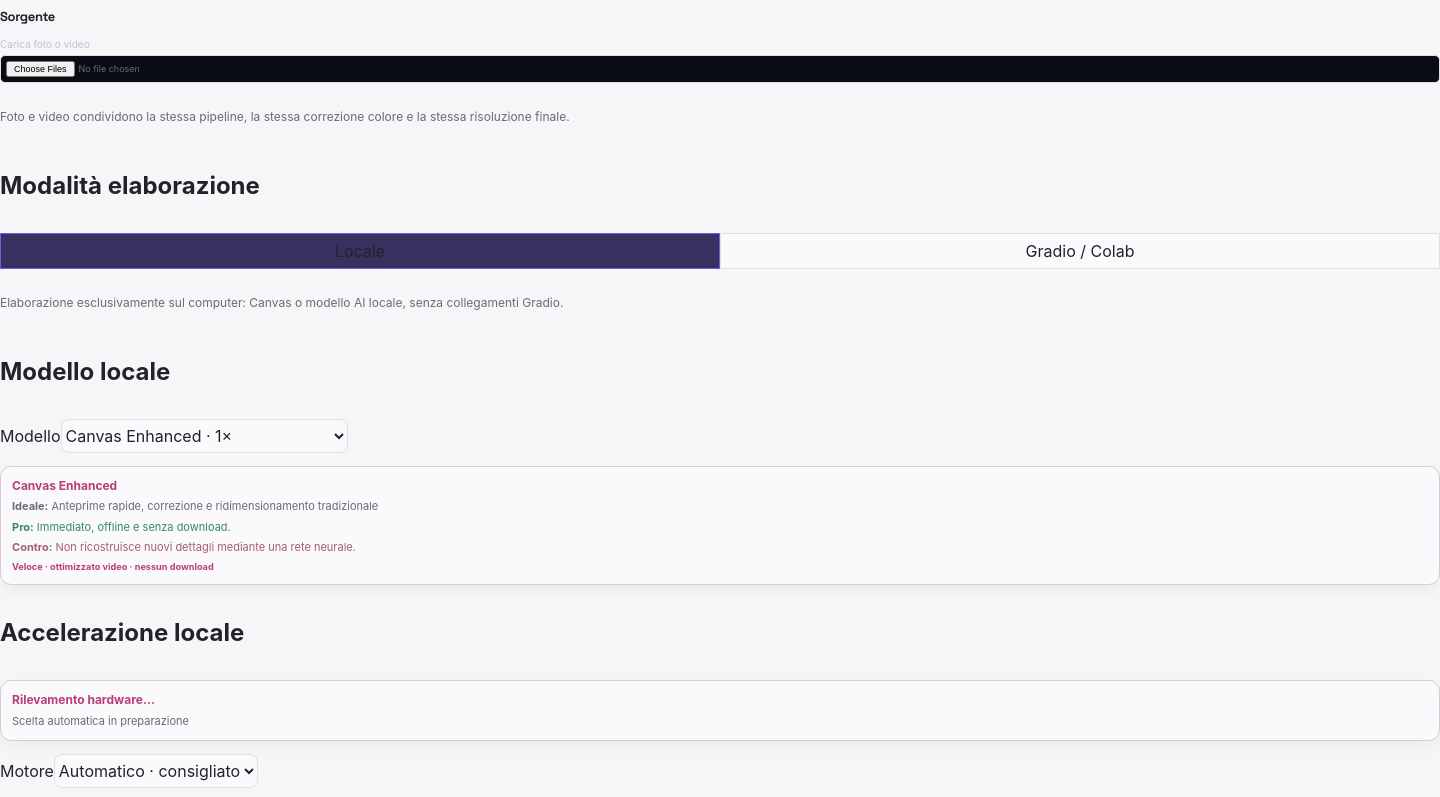
Test case: UpscalerPanel source picker › separa le modalità Locale e Gradio mostrando soltanto i controlli pertinenti
Expected: the dropdown named "Modello Upscaler" is shown, [60,419,348,453]
Click the button "Gradio / Colab": (1080, 251) [720,233,1439,269]
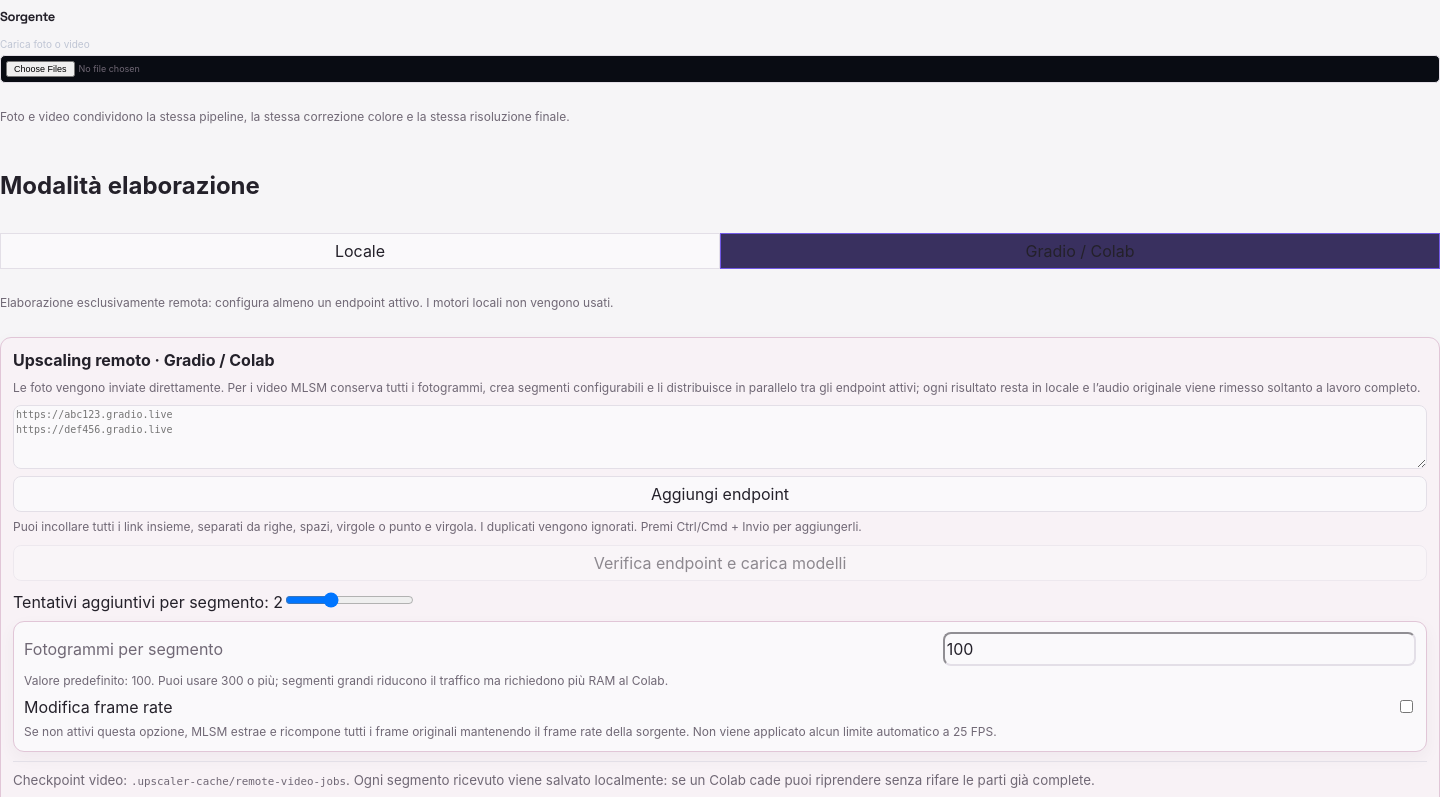
Now the text box named "URL endpoint Upscaler remoto" is shown, box [13,405,1427,469]
Now the text "motori locali non vengono usati" is shown, box [0,295,614,310]
Click the button "Locale": (360, 251) [0,233,720,269]
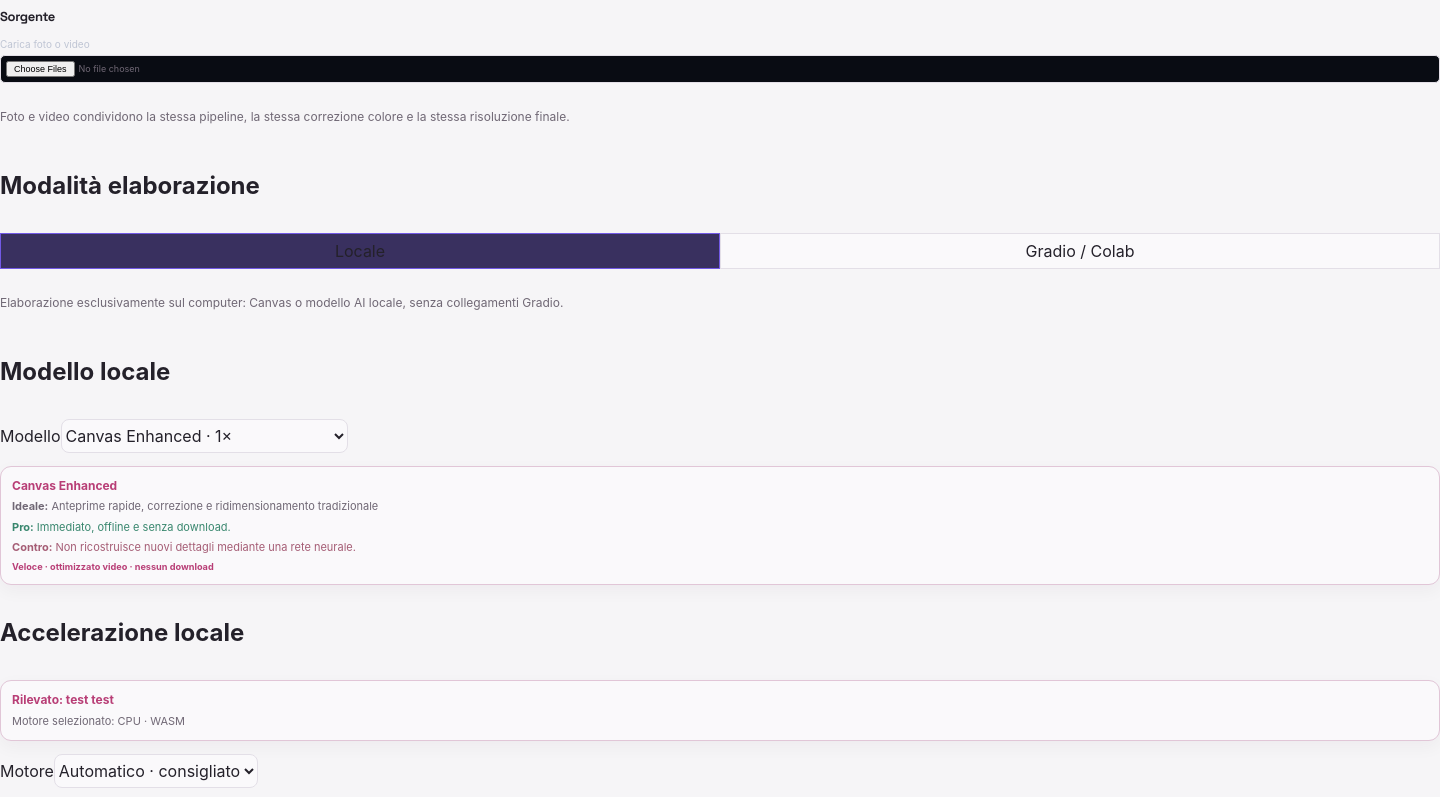
Now the dropdown named "Modello Upscaler" is shown, box [60,419,348,453]
